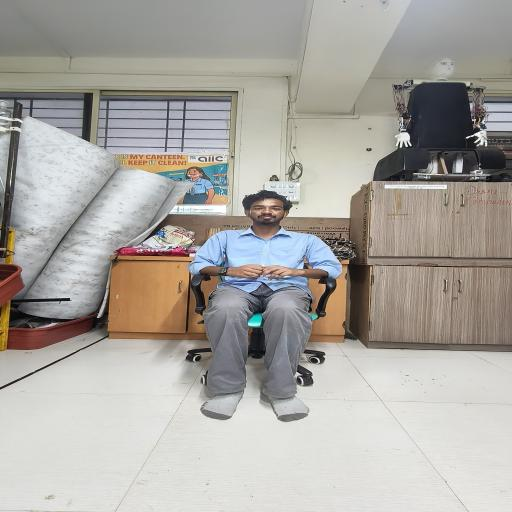survivor: (187, 190, 342, 422)
